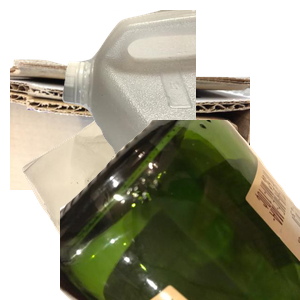cardboard: (10, 57, 250, 237)
glass: (60, 120, 300, 300)
plastic: (60, 10, 300, 190)
trash: (20, 120, 260, 300)
